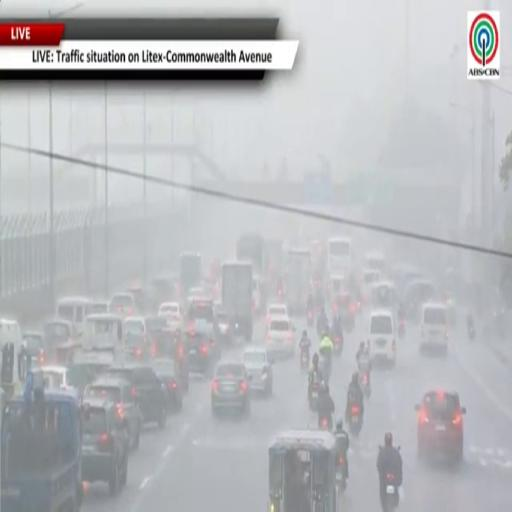car: (82, 398, 128, 494), (84, 377, 142, 449), (106, 363, 167, 428), (415, 390, 465, 461), (154, 329, 189, 392), (212, 362, 250, 415), (185, 323, 218, 375), (152, 359, 182, 411), (369, 310, 396, 366), (420, 302, 448, 355), (69, 351, 114, 383), (243, 346, 272, 395), (123, 316, 152, 360), (265, 316, 295, 357), (41, 365, 77, 393), (144, 314, 167, 357), (22, 331, 46, 366), (187, 297, 214, 326), (110, 292, 137, 317), (215, 310, 233, 346), (362, 268, 380, 303), (159, 302, 182, 328), (266, 303, 288, 325), (364, 252, 386, 271), (87, 299, 109, 316)
motorcycle: (383, 473, 399, 511), (349, 404, 362, 436), (319, 352, 331, 385), (336, 456, 347, 492), (316, 315, 328, 337), (309, 382, 318, 410), (361, 372, 371, 397), (333, 335, 343, 356), (300, 349, 309, 371), (319, 415, 332, 430), (306, 310, 315, 328), (467, 326, 476, 342), (398, 319, 405, 339)
truck: (0, 382, 82, 511), (222, 262, 253, 342), (285, 249, 311, 314), (236, 233, 267, 276), (179, 252, 203, 299)
